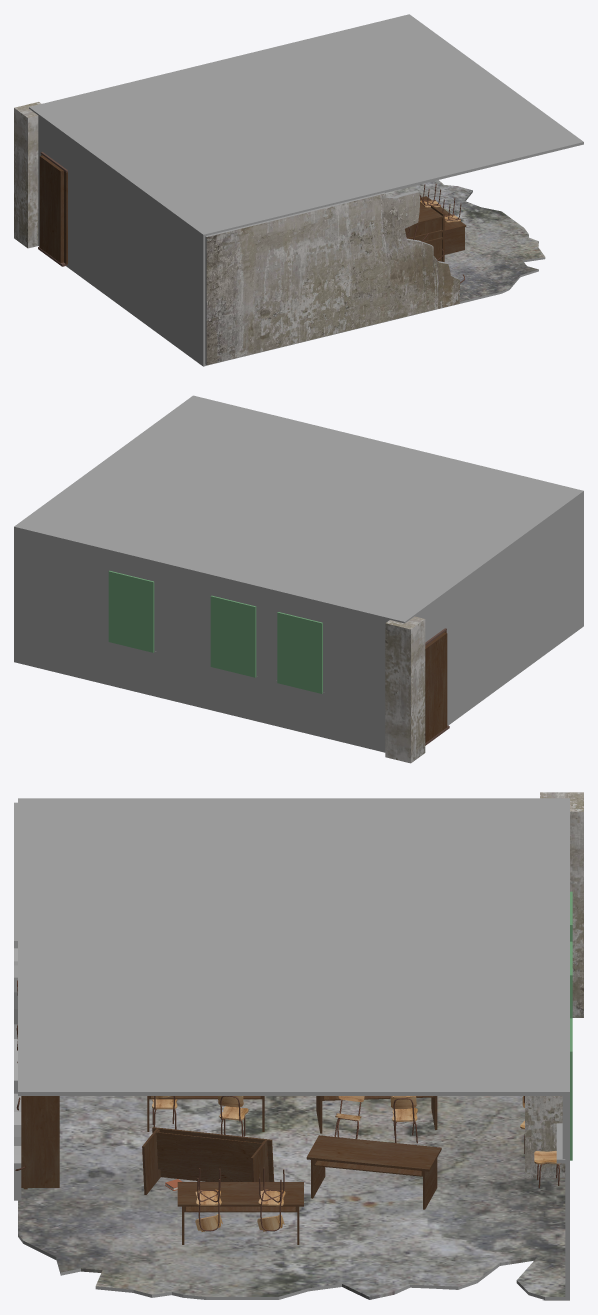
File: classroom.fbx
3 renders of one model, top to bottom at view 1: azimuth 30°, elevation 25°; view 2: azimuth 150°, elevation 25°; view 3: azimuth 270°, elevation 25°, orthographic. The views are drawn at different scales.
Visible parts, largest first — view 1: pCylinder51; view 2: pCylinder51; view 3: pCylinder51.
Part boxes in pixels (x1,y1,x2,y2): pCylinder51: (14,14,583,366); pCylinder51: (14,395,583,763); pCylinder51: (14,792,583,1300).
Bounding box in the file's own units: 14.37 × 11.47 × 4.63.
9 materials, 1 textured.
